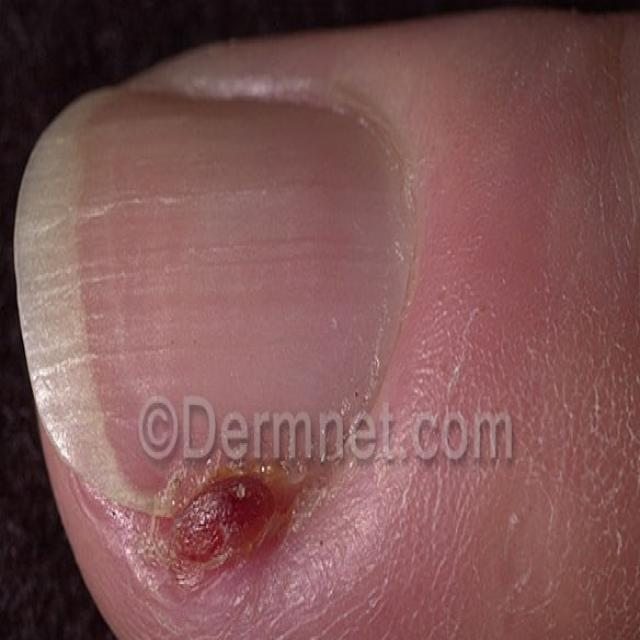Vascular Tumors: (110, 463, 314, 633)
